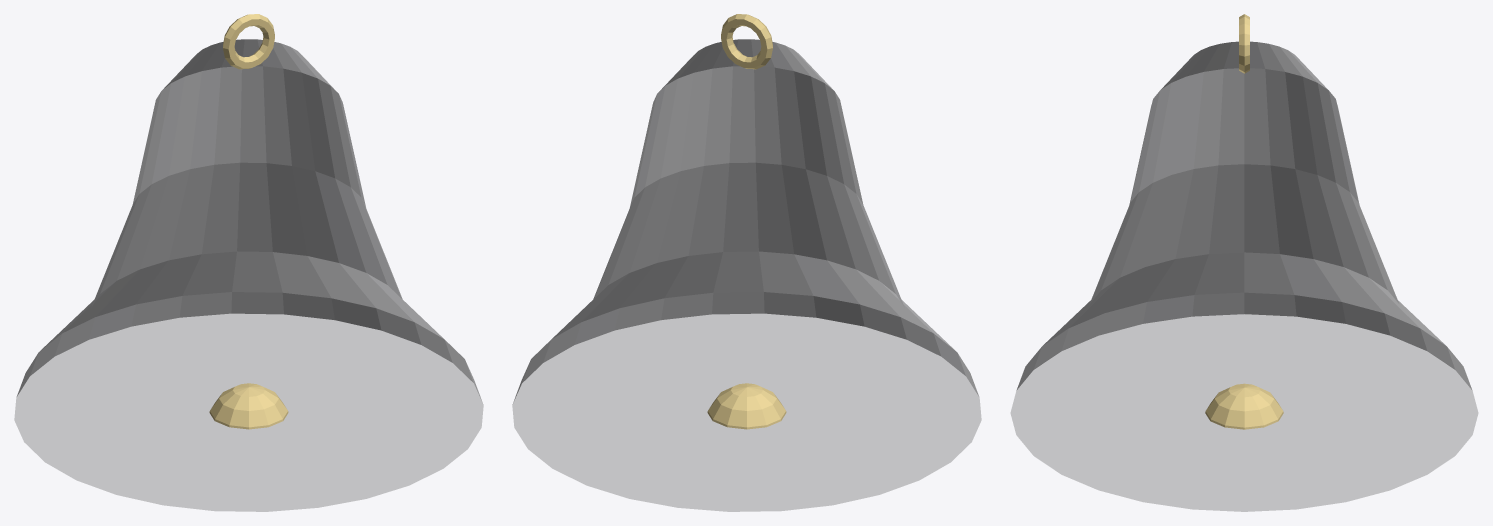
The model's file is bell-silver-2in.glb.
3 views of the same model, side by side, from view 1: azimuth 30°, elevation 25°; view 2: azimuth 150°, elevation 25°; view 3: azimuth 270°, elevation 25° (orthographic).
Parts seen in each view (by area): view 1: bell; view 2: bell; view 3: bell.
Boxes of the visible parts, x1=… form: bell: x1=14, y1=14, x2=483, y2=511; bell: x1=512, y1=14, x2=981, y2=511; bell: x1=1010, y1=14, x2=1478, y2=511.
Bounding box in the file's own units: 0.0482 × 0.0508 × 0.0482.
